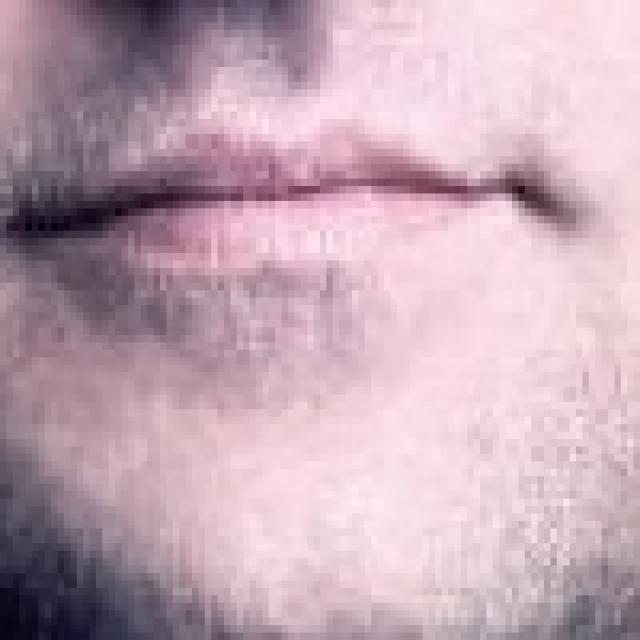closed-mouth: (0, 118, 576, 276)
